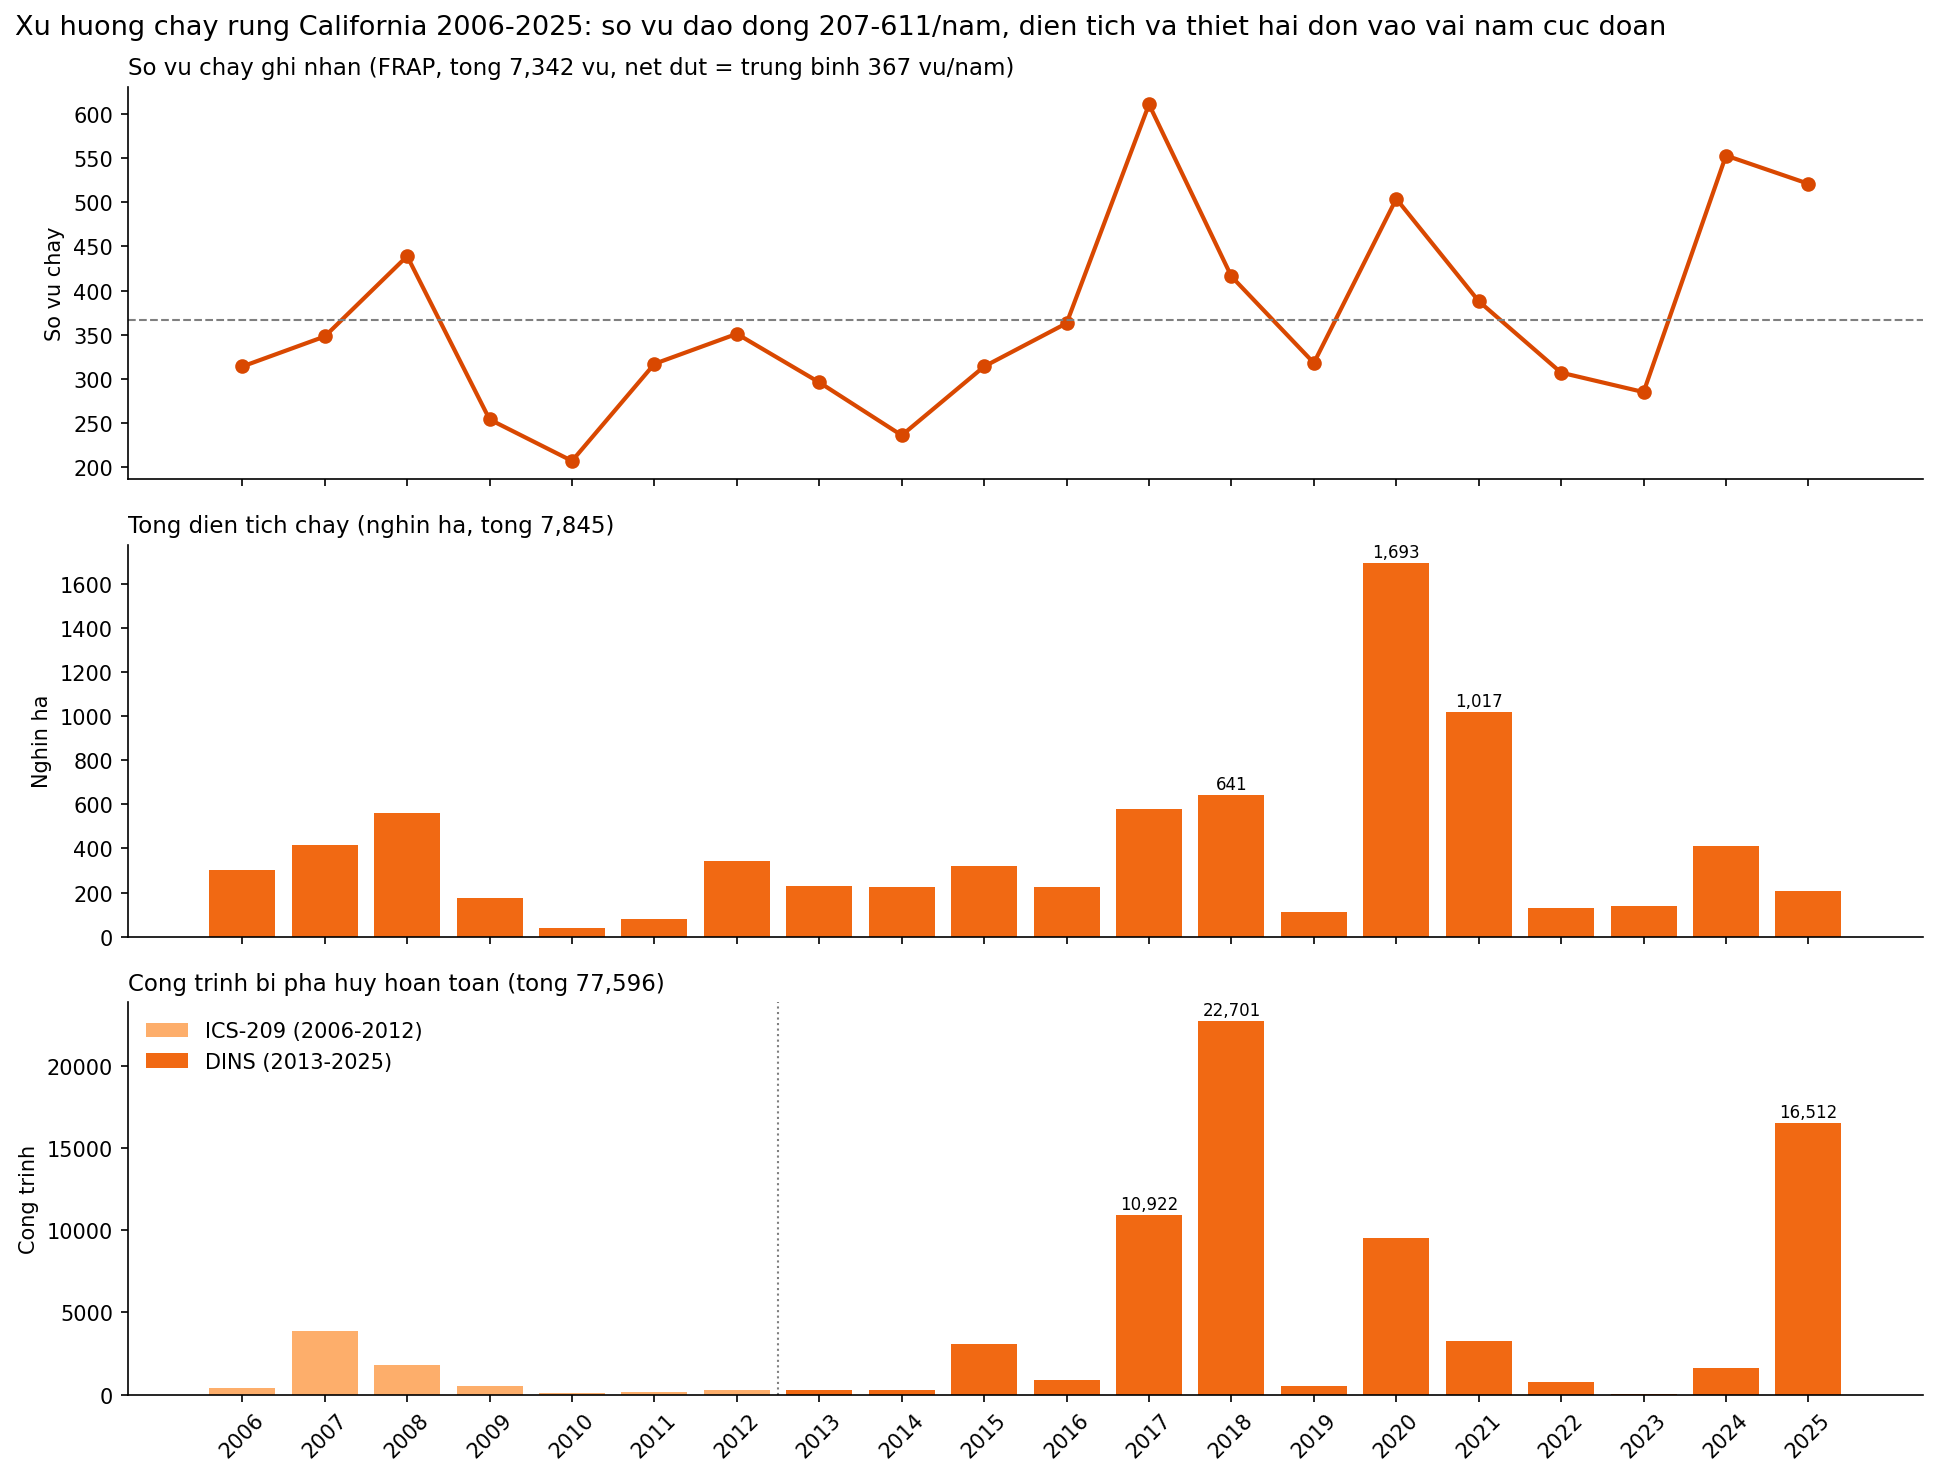

Layout of this report page (visuals, bound fields, positions):
{"tool":"tableau","page":{"name":"D4_Du_bao","canvas":[1000,1000],"units":"permille","ordinal":3},"visuals":[{"type":"title","box":[3.9,7.4,992.3,38.7]},{"type":"worksheet","title":"F1_So_vu","mark":"Area","rows":["Calculation_0014553394085898"],"cols":["year"],"box":[3.9,46.1,914.9,354.9]},{"type":"legend","title":"F1_So_vu","param":"[federated.0z0alqr1dk39yf10sme6h1e6h8jp].[:Measure Names]","box":[918.8,46.1,77.3,61.7]},{"type":"legend","title":"F1_So_vu","param":"[federated.0z0alqr1dk39yf10sme6h1e6h8jp].[none:Calculation_0014553393954824:nk]","box":[918.8,107.8,77.3,61.7]},{"type":"filter","title":"F1_So_vu","param":"[federated.0z0alqr1dk39yf10sme6h1e6h8jp].[none:year:qk]","box":[918.8,169.5,77.3,64.5]},{"type":"worksheet","title":"F2_Dien_tich","mark":"Area","rows":["Calculation_0014553394085898"],"cols":["year"],"box":[3.9,401,914.9,355]},{"type":"worksheet","title":"F3_Cong_trinh","mark":"Area","rows":["Calculation_0014553394085898"],"cols":["year"],"box":[3.9,756,914.9,236.7]}]}

Visuals, with their boxes on the dashboard's canvas, which has no fixed pixel size, in thousandths of its width and height (x1, y1, x2, y2). These are canvas units, not pixel positions in the 1938x1476 screenshot, which may show the page scaled, cropped or inside an application window:
title: [4,7,996,46]
"F1_So_vu" worksheet (Area marks): [4,46,919,401]
"F1_So_vu" legend: [919,46,996,108]
"F1_So_vu" legend: [919,108,996,170]
"F1_So_vu" filter: [919,170,996,234]
"F2_Dien_tich" worksheet (Area marks): [4,401,919,756]
"F3_Cong_trinh" worksheet (Area marks): [4,756,919,993]
